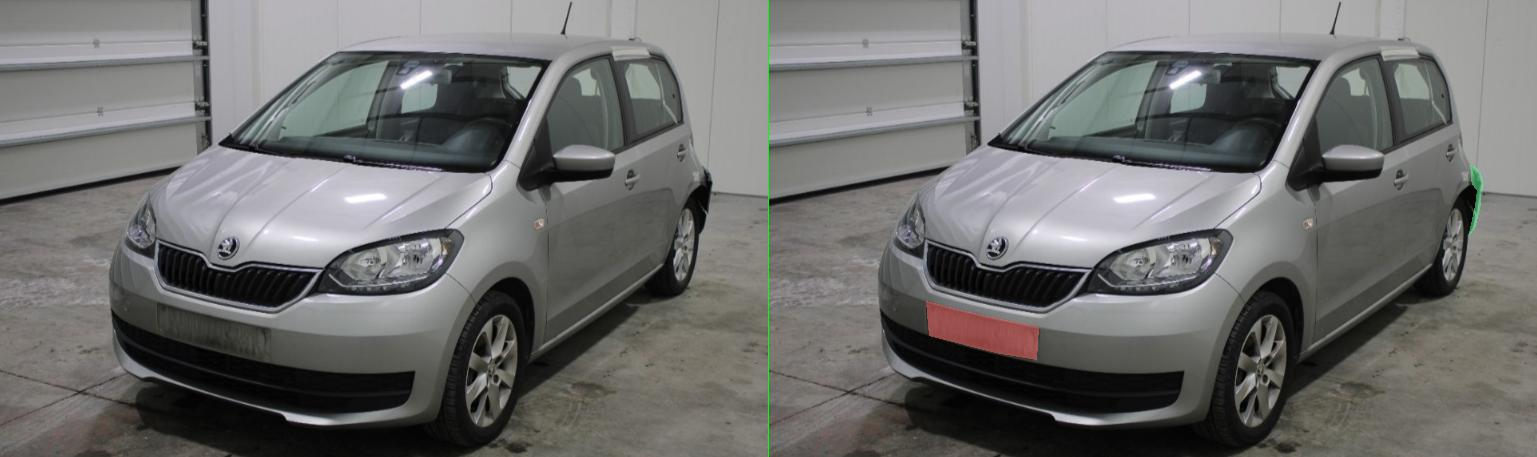Broken part: (1401, 165, 1427, 234)
Missing part: (314, 301, 538, 359)
